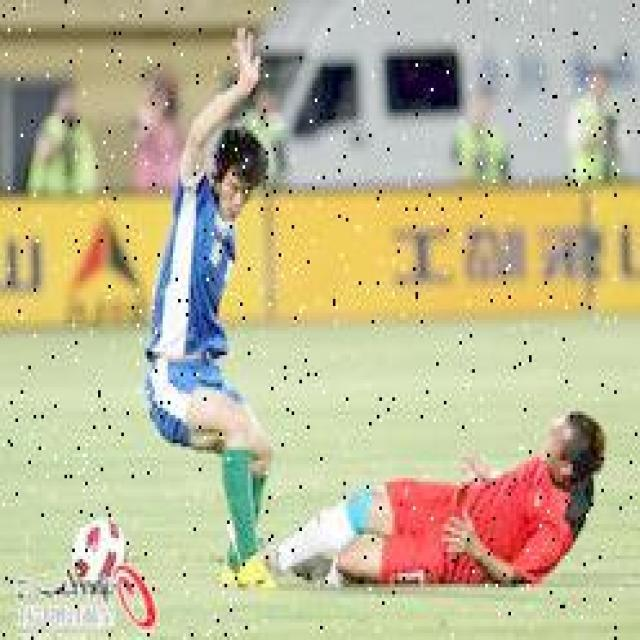fall: (278, 401, 616, 591)
